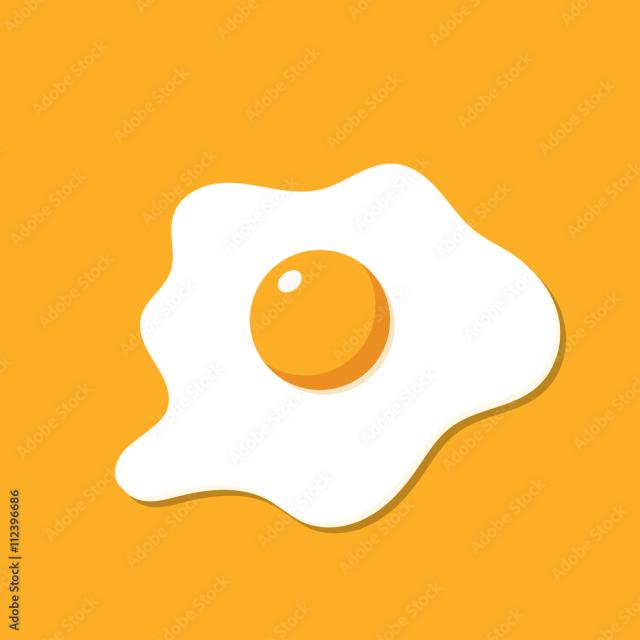Egg: (116, 164, 562, 529)
